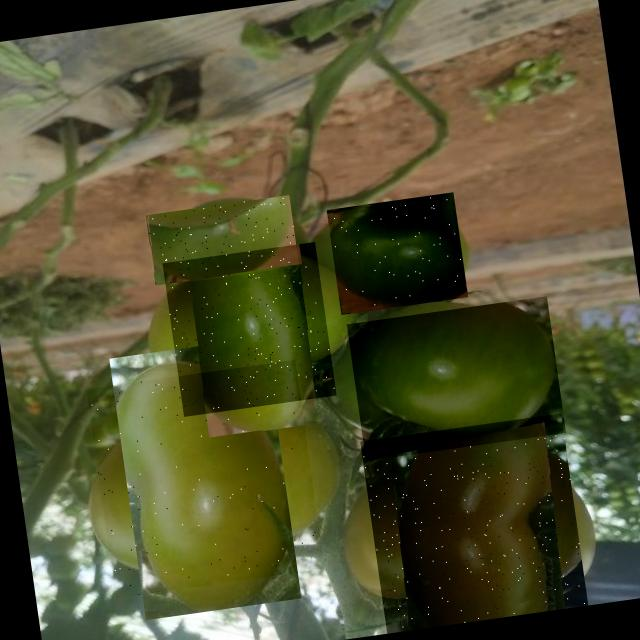Unripe Tomato: (86, 360, 324, 598), (361, 414, 588, 634), (347, 296, 566, 461), (162, 242, 336, 417), (326, 192, 468, 315), (144, 195, 300, 287)
